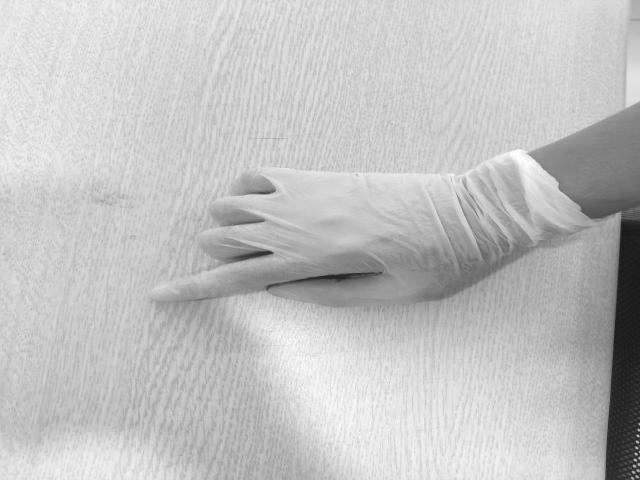gloved: (138, 168, 478, 308)
